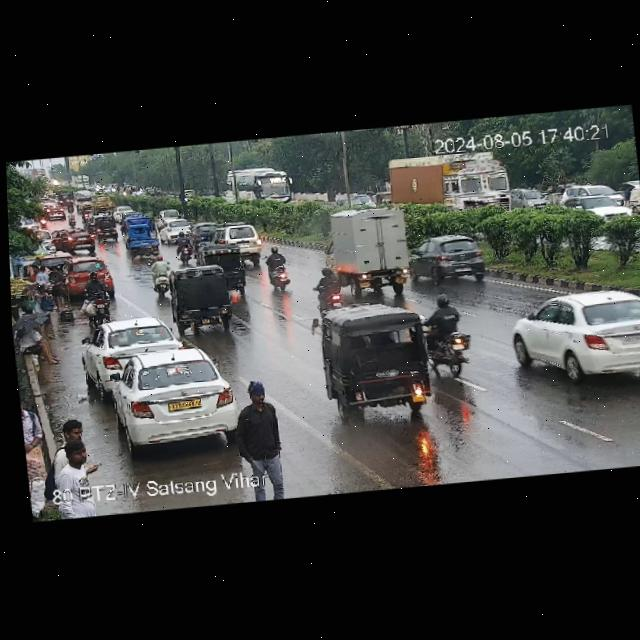bus: (226, 165, 296, 211)
car: (101, 345, 238, 450), (507, 283, 640, 385), (318, 306, 425, 423), (79, 314, 182, 383), (162, 262, 242, 336), (407, 231, 491, 282), (195, 241, 249, 283), (217, 220, 262, 263), (60, 259, 112, 292), (49, 225, 95, 255), (124, 225, 160, 253), (90, 214, 119, 243), (161, 218, 194, 240), (624, 175, 640, 216), (189, 221, 220, 239), (156, 206, 181, 225), (125, 224, 155, 238), (122, 211, 151, 223), (125, 216, 152, 228)
motorcycle: (421, 295, 481, 374), (262, 244, 298, 291), (78, 268, 115, 313), (142, 254, 174, 296), (176, 232, 199, 263), (59, 188, 81, 216)
person: (232, 378, 288, 466), (42, 414, 94, 487), (12, 310, 58, 370)
truck: (371, 147, 518, 221), (322, 199, 424, 299), (554, 177, 639, 224), (88, 191, 117, 216)
